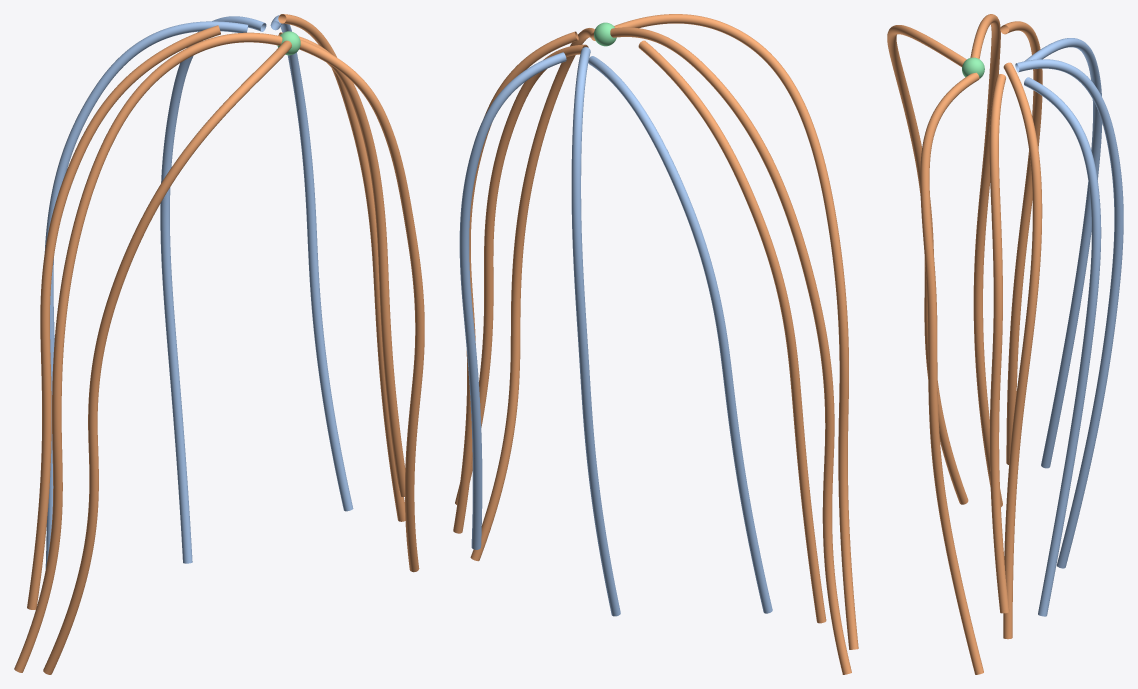
File: flows.glb
The picture shows the model from 3 angles, left to right: view 1: azimuth 30°, elevation 25°; view 2: azimuth 150°, elevation 25°; view 3: azimuth 270°, elevation 25°; orthographic projection. The views are drawn at different scales.
Visible parts, largest first — view 1: sweep_across_2, sweep_across, side_left, sweep_short, back_centre, back_right, sweep_short_2, back_left, side_right; view 2: sweep_across, sweep_across_2, side_left, back_left, back_centre, back_right, sweep_short, sweep_short_2, side_right; view 3: sweep_short, back_centre, side_right, back_right, sweep_short_2, sweep_across_2, back_left, side_left, sweep_across.
Part boxes in pixels (x1,y1,x2,y2): sweep_across_2: (14, 32, 282, 672); sweep_across: (43, 40, 291, 674); side_left: (27, 25, 220, 609); sweep_short: (299, 39, 424, 572); back_centre: (160, 16, 266, 563); back_right: (270, 15, 353, 511); sweep_short_2: (278, 32, 405, 496); back_left: (44, 21, 248, 568); side_right: (278, 14, 405, 521); sweep_across: (614, 14, 858, 649); sweep_across_2: (610, 27, 851, 674); side_left: (638, 40, 826, 623); back_left: (588, 56, 772, 613); back_centre: (571, 47, 620, 616); back_right: (459, 52, 566, 549); sweep_short: (470, 28, 595, 561); sweep_short_2: (455, 44, 588, 504); side_right: (453, 31, 578, 533); sweep_short: (920, 72, 983, 674); back_centre: (1015, 59, 1123, 568); side_right: (1003, 62, 1042, 639); back_right: (1024, 77, 1101, 616); sweep_short_2: (989, 74, 1009, 613); sweep_across_2: (970, 14, 1002, 506); back_left: (1024, 38, 1102, 468); side_left: (1000, 21, 1042, 464); sweep_across: (887, 25, 968, 504).
Size of the model in its own units: 2.84 by 4.06 by 1.51.
